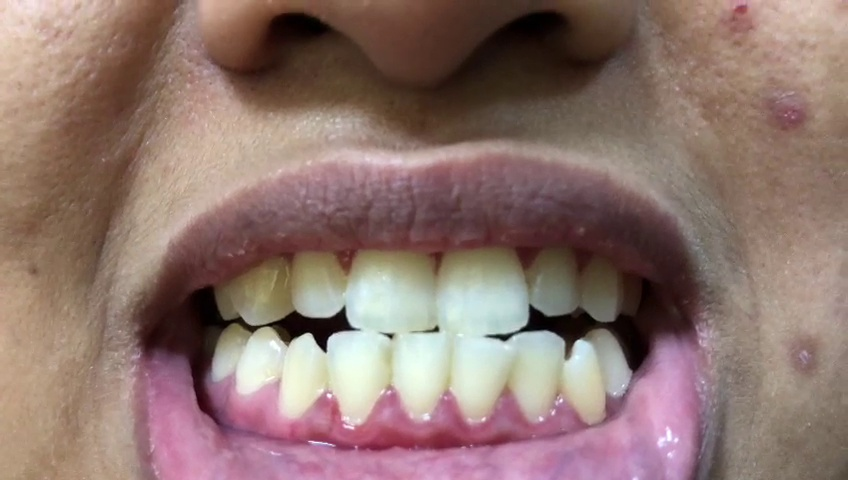1st Premolar: (237, 328, 287, 397), (592, 331, 633, 399)
2nd Premolar: (213, 324, 247, 383)
Canine: (229, 248, 293, 325), (278, 333, 328, 424), (562, 339, 607, 425), (584, 247, 624, 322)
Central Incisor: (437, 234, 531, 336), (345, 239, 436, 332), (453, 334, 513, 428), (390, 331, 450, 422)
Lateral Incisor: (330, 331, 388, 429), (510, 331, 565, 424), (527, 236, 585, 315), (289, 243, 346, 317)
